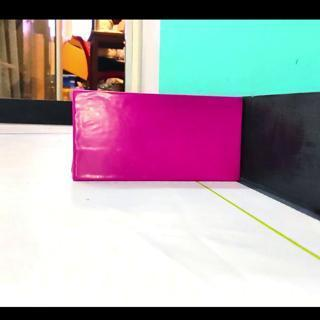xparking: (74, 95, 242, 181)
